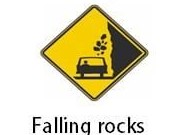Traffic signal: (40, 4, 151, 103)
